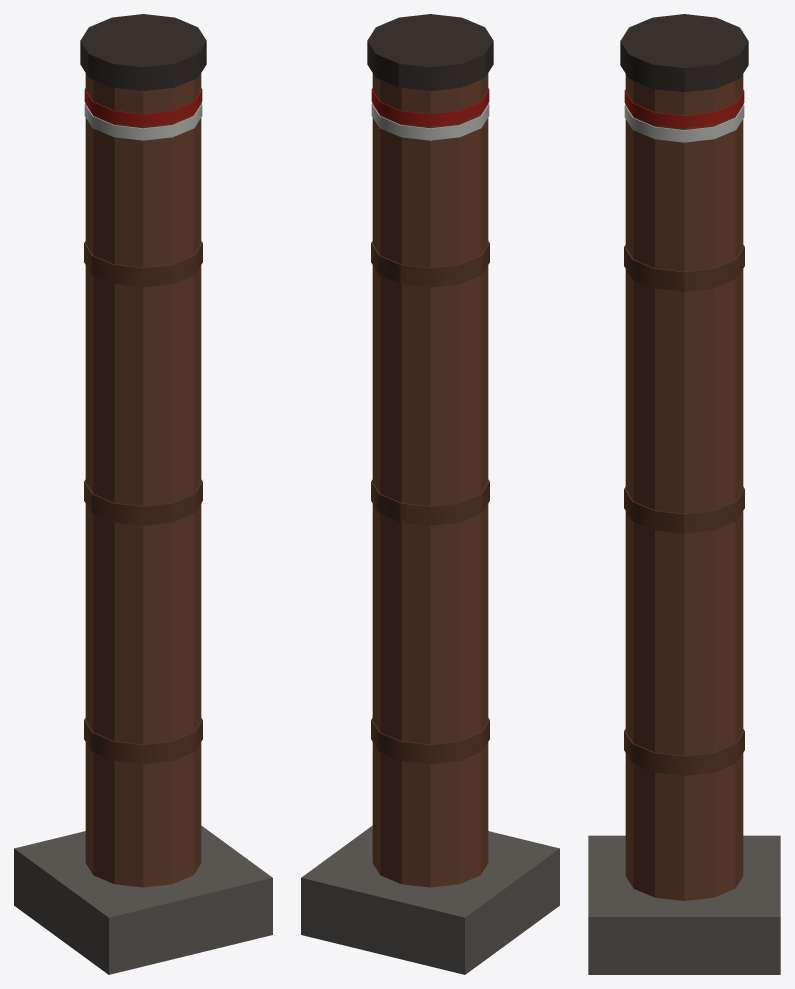
The model's file is bg_industrial_chimney_1_lod0.glb.
The picture shows the model from 3 angles, left to right: view 1: azimuth 30°, elevation 25°; view 2: azimuth 150°, elevation 25°; view 3: azimuth 270°, elevation 25°; orthographic projection.
Visible parts, largest first — view 1: body; view 2: body; view 3: body.
Boxes of the visible parts, x1=… form: body: x1=14, y1=14, x2=272, y2=974; body: x1=301, y1=14, x2=559, y2=974; body: x1=588, y1=14, x2=780, y2=974.
Bounding box in the file's own units: 3.6 × 18.45 × 3.6.
